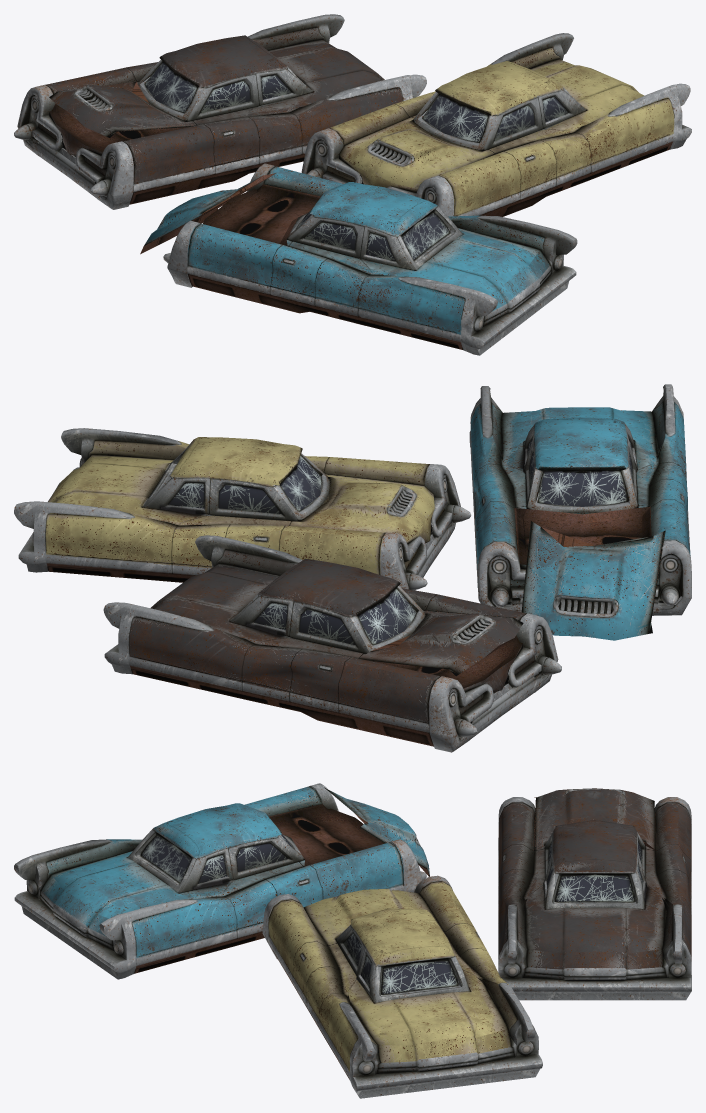
File: cars.FBX
3 renders of one model, top to bottom at view 1: azimuth 30°, elevation 25°; view 2: azimuth 150°, elevation 25°; view 3: azimuth 270°, elevation 25°, orthographic. The views are drawn at different scales.
Visible parts, largest first — view 1: Object004, Object002, Object003; view 2: Object002, Object003, Object004; view 3: Object004, Object003, Object002.
Part boxes in pixels (bbox=[...]): Object004: bbox=[140, 163, 577, 355]; Object002: bbox=[14, 14, 426, 209]; Object003: bbox=[301, 33, 691, 216]; Object002: bbox=[103, 535, 561, 752]; Object003: bbox=[14, 428, 471, 590]; Object004: bbox=[469, 384, 691, 640]; Object004: bbox=[14, 783, 429, 979]; Object003: bbox=[262, 875, 542, 1098]; Object002: bbox=[498, 788, 691, 1000].
Bounding box in the file's own units: 464 × 74.35 × 500.
